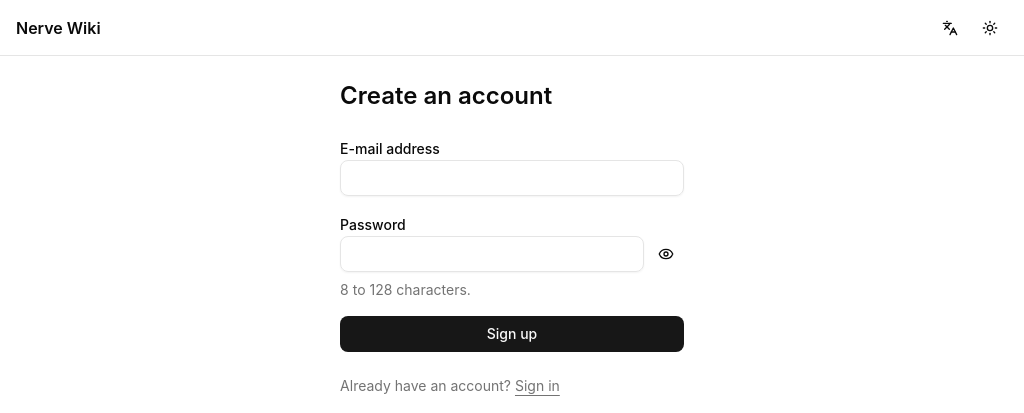
Test: signing up signs in to the new account, which starts onboarding and then goes to next
In the field labelled "E-mail address": (512, 178) top-left (340, 160), bottom-right (684, 196), type "ada@example.com"
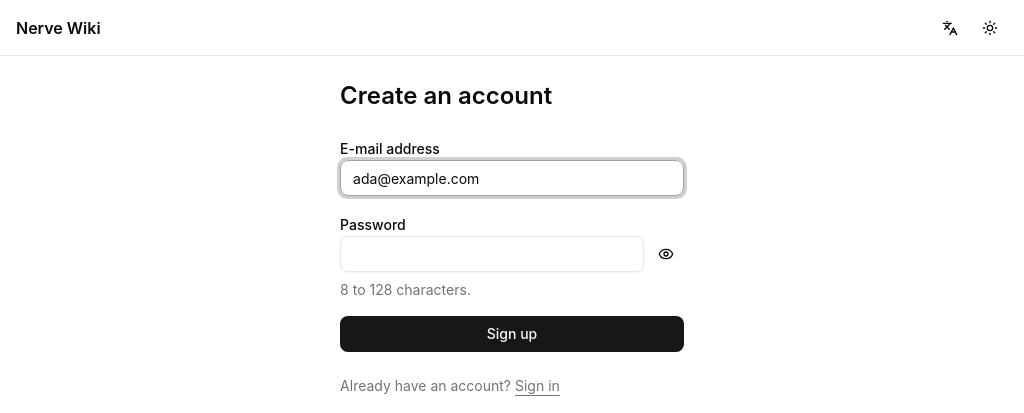
In the password field labelled "Password": (492, 254) top-left (340, 236), bottom-right (644, 272), type "correct horse"
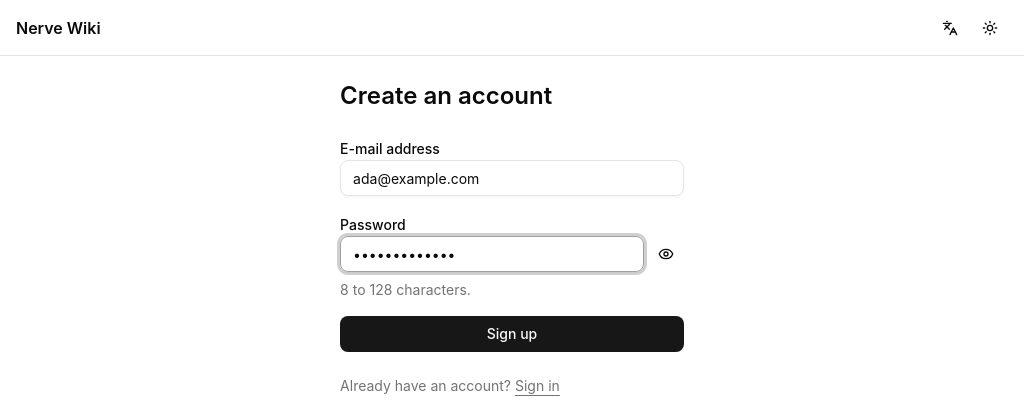
Click the button "Sign up": click(512, 334) top-left (340, 316), bottom-right (684, 352)
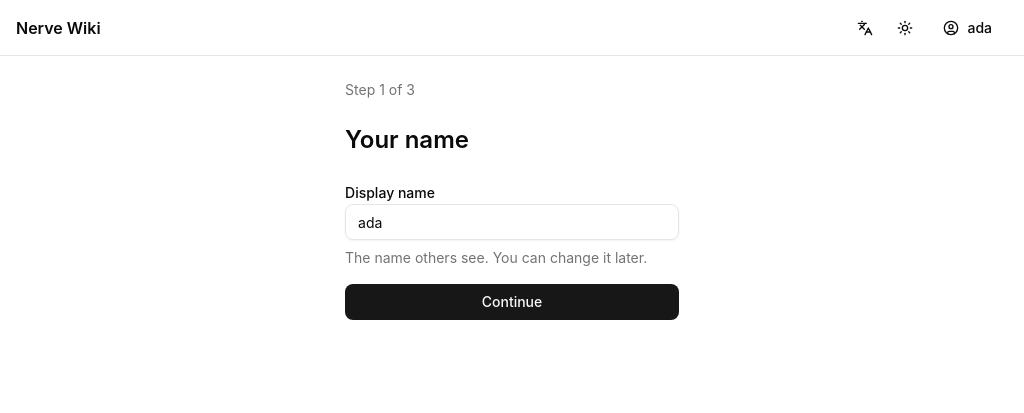
Expected: the heading "Your name" is shown, top-left (345, 125), bottom-right (469, 154)
Expected: the button "ada" is shown, top-left (927, 10), bottom-right (1008, 46)
